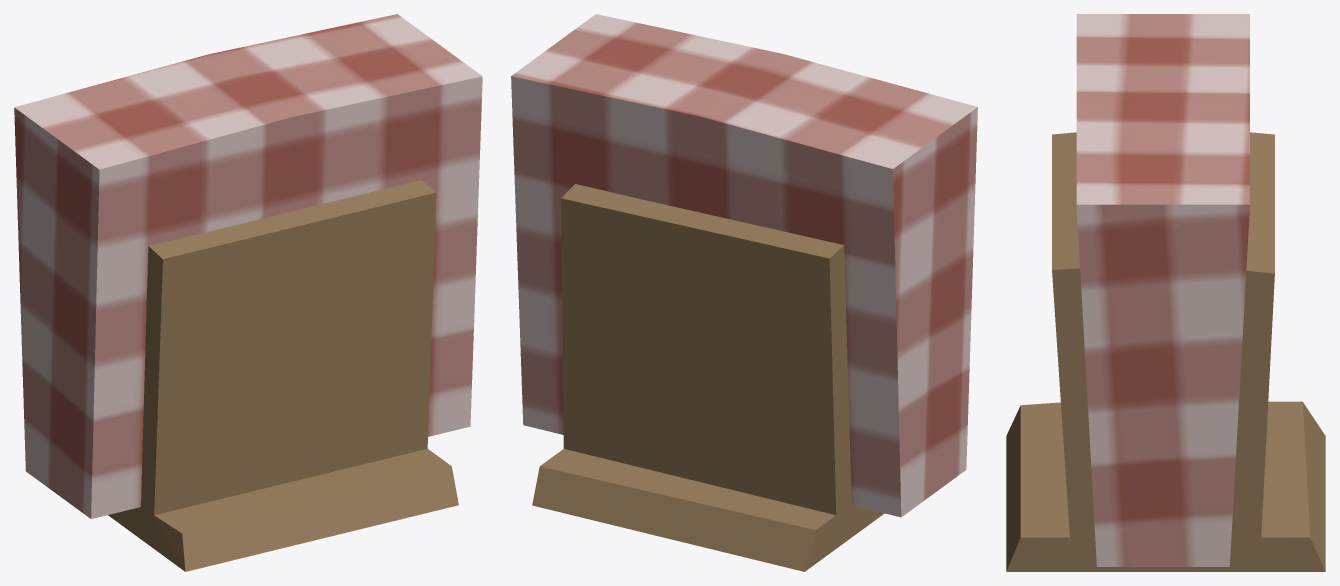
File: SM_Prop_Cafe_Napkin_Holder_01.obj
The picture shows the model from 3 angles, left to right: view 1: azimuth 30°, elevation 25°; view 2: azimuth 150°, elevation 25°; view 3: azimuth 270°, elevation 25°; orthographic projection. The views are drawn at different scales.
Visible parts, largest first — view 1: SM_Prop_Cafe_Napkin_Holder_01_0; view 2: SM_Prop_Cafe_Napkin_Holder_01_0; view 3: SM_Prop_Cafe_Napkin_Holder_01_0.
Part boxes in pixels (x1,y1,x2,y2): SM_Prop_Cafe_Napkin_Holder_01_0: (14, 14, 482, 571); SM_Prop_Cafe_Napkin_Holder_01_0: (511, 14, 977, 571); SM_Prop_Cafe_Napkin_Holder_01_0: (1006, 14, 1325, 571).
Size of the model in its own units: 0.2008 by 0.1979 by 0.1424.
1 material, 1 textured.
